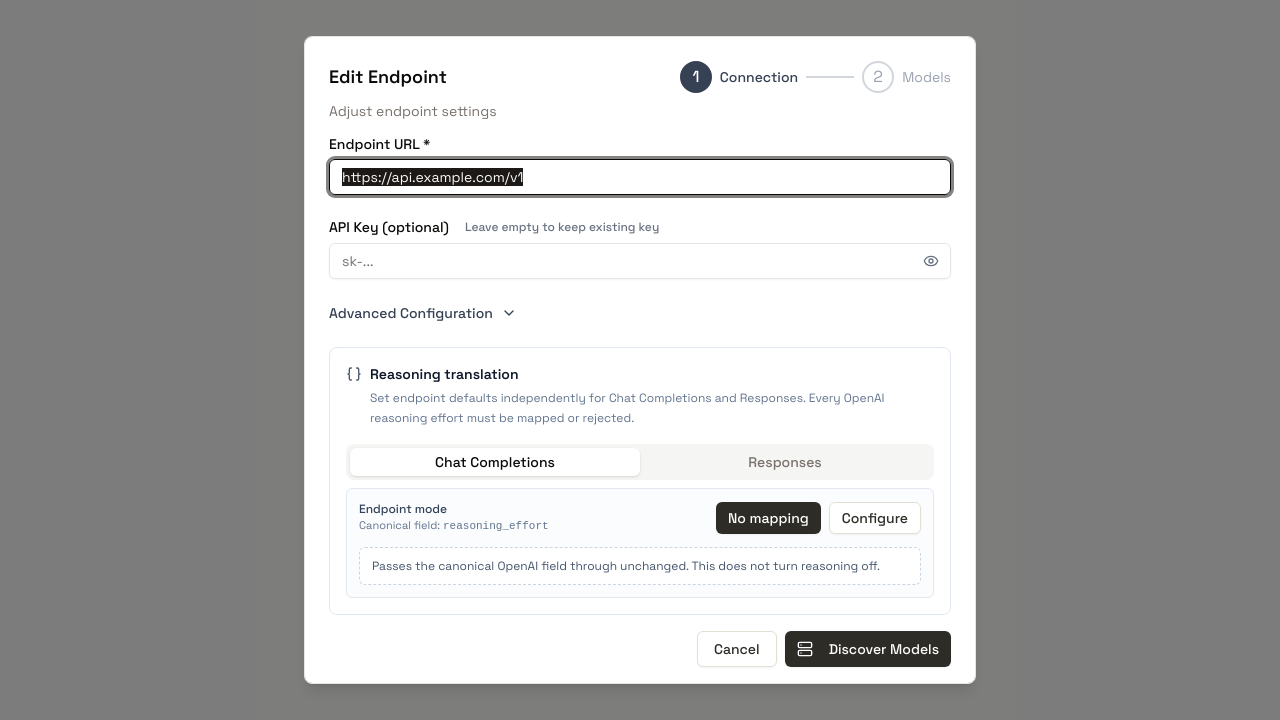
EditEndpointModal › shows validation error state on failed model fetch
Click the button "Discover Models": (868, 648) x1=785 y1=630 x2=951 y2=666
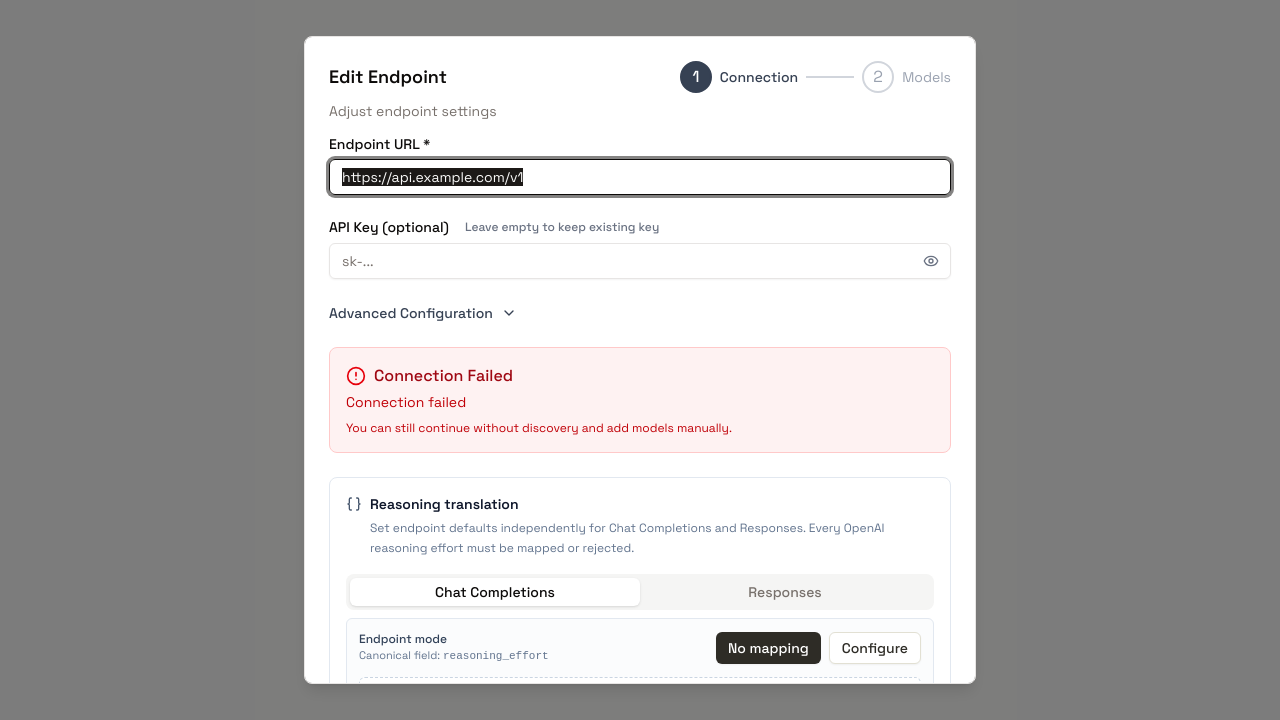
Now the text "Connection failed" is shown, box x1=346 y1=393 x2=466 y2=411
